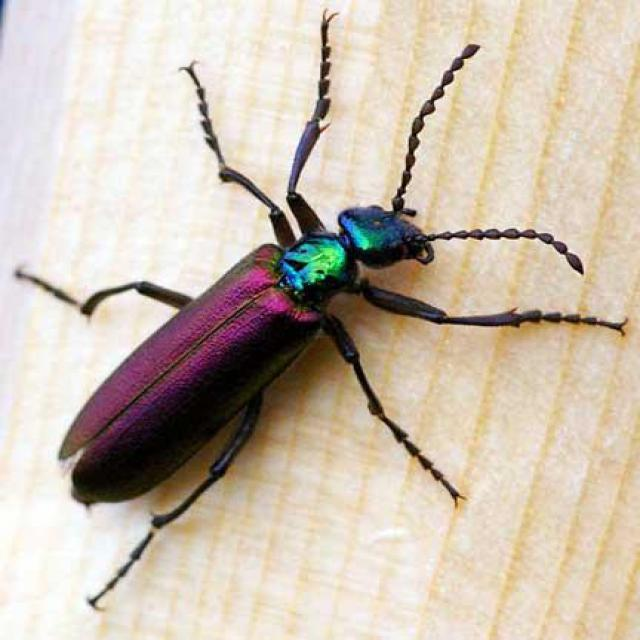BlisterBeetle-Adult-: (45, 27, 595, 578)
